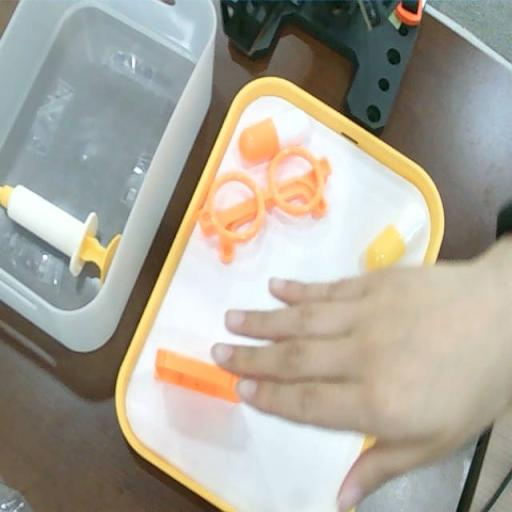hospital: (207, 229, 512, 508)
